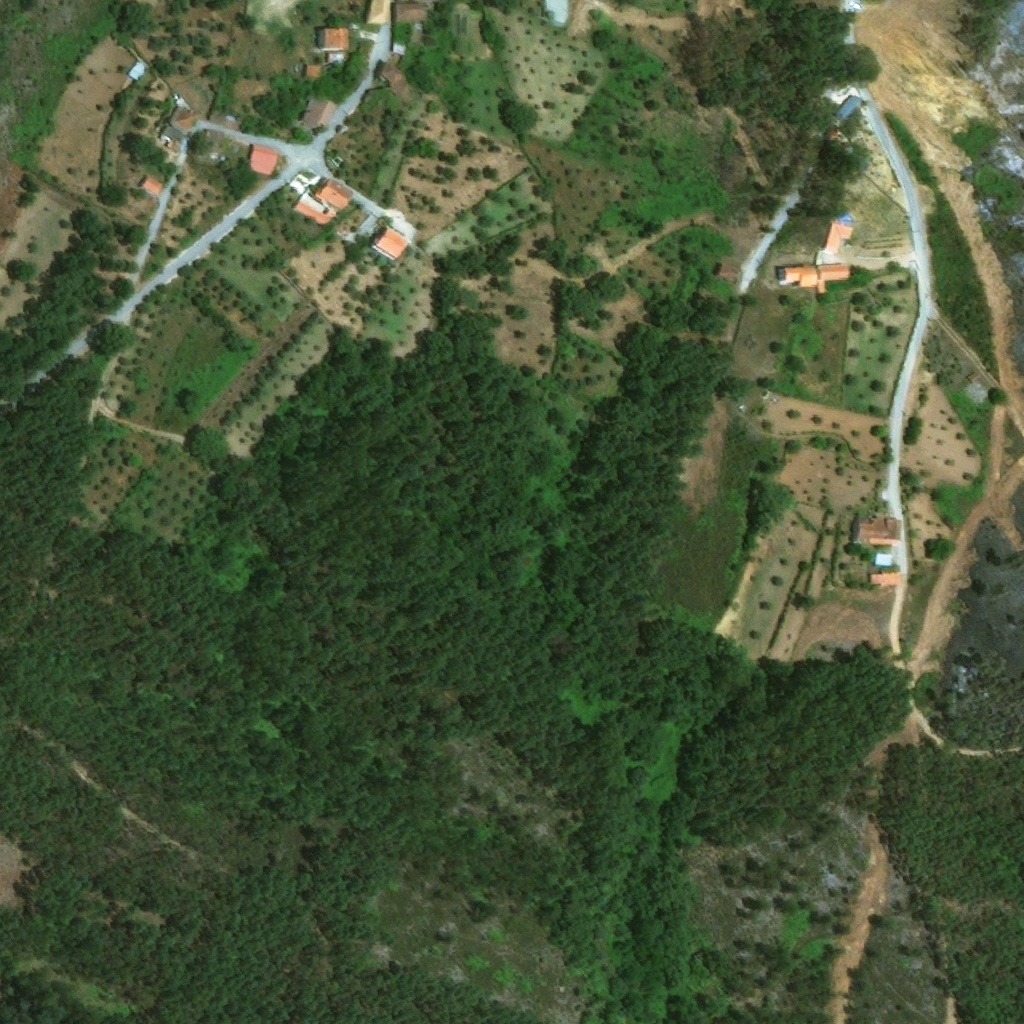0 no-damage: (777, 221, 855, 295), (292, 177, 355, 225), (852, 514, 902, 568), (367, 222, 409, 262), (300, 95, 339, 130), (166, 97, 200, 136), (394, 0, 446, 25), (317, 27, 351, 64), (246, 144, 282, 178), (837, 93, 864, 120), (364, 0, 392, 26), (547, 0, 570, 23), (868, 571, 901, 586), (140, 175, 163, 196), (716, 264, 740, 284), (127, 62, 147, 82), (302, 64, 320, 78), (393, 40, 407, 54)
